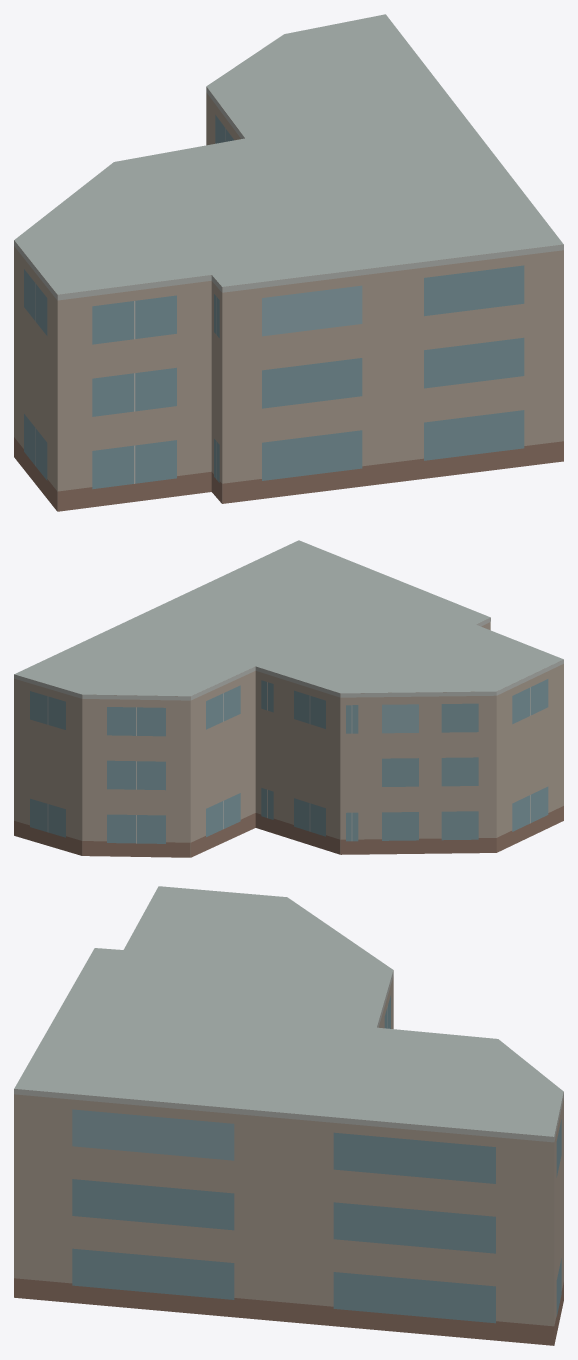
The model's file is survey-upis-32932635.glb.
The picture shows the model from 3 angles, top to bottom: view 1: azimuth 30°, elevation 25°; view 2: azimuth 150°, elevation 25°; view 3: azimuth 270°, elevation 25°; orthographic projection. The views are drawn at different scales.
Visible parts, largest first — view 1: survey-upis-32932635.tmp; view 2: survey-upis-32932635.tmp; view 3: survey-upis-32932635.tmp.
Part boxes in pixels (<box>): survey-upis-32932635.tmp: <box>14,14,563,511</box>; survey-upis-32932635.tmp: <box>14,540,563,857</box>; survey-upis-32932635.tmp: <box>14,886,563,1345</box>.
Bounding box in the file's own units: 23.57 × 9.15 × 21.83.
